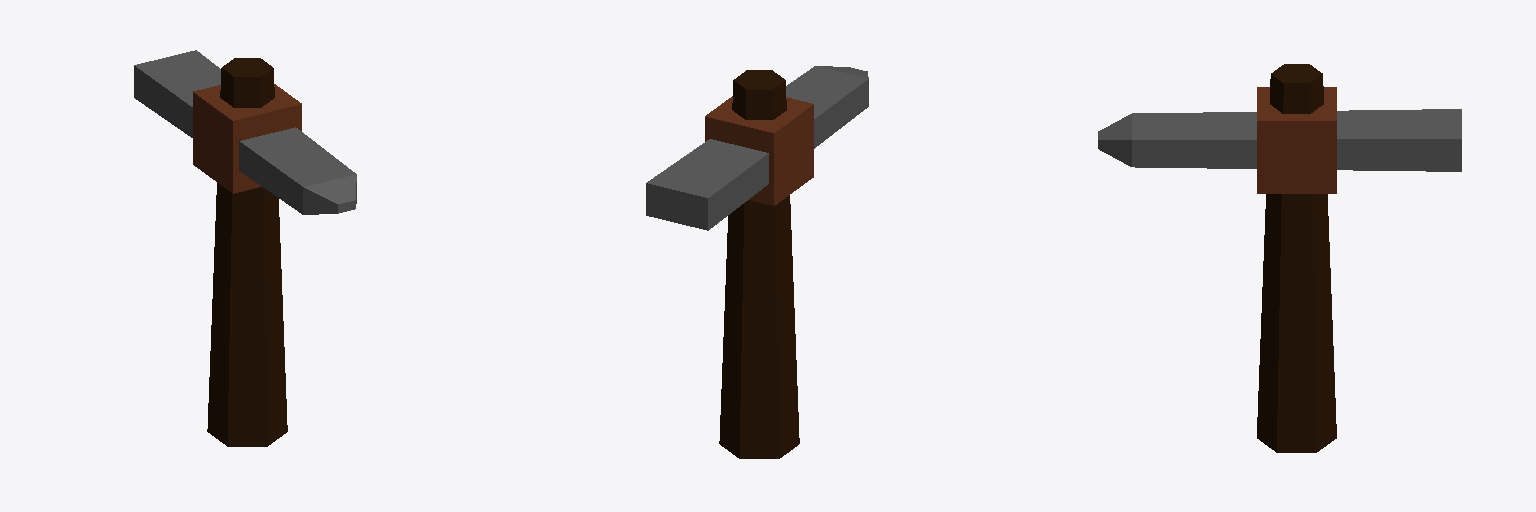
The model's file is Pickaxe.obj.
The picture shows the model from 3 angles: view 1: azimuth 30°, elevation 25°; view 2: azimuth 150°, elevation 25°; view 3: azimuth 270°, elevation 25°; orthographic projection.
Visible parts, largest first — view 1: SupportMaterial_Cube.001; view 2: SupportMaterial_Cube.001; view 3: SupportMaterial_Cube.001.
Boxes of the visible parts, x1=… form: SupportMaterial_Cube.001: x1=134, y1=50, x2=356, y2=446; SupportMaterial_Cube.001: x1=646, y1=66, x2=868, y2=458; SupportMaterial_Cube.001: x1=1098, y1=64, x2=1461, y2=452.
Size of the model in its own units: 2 by 10 by 9.04.